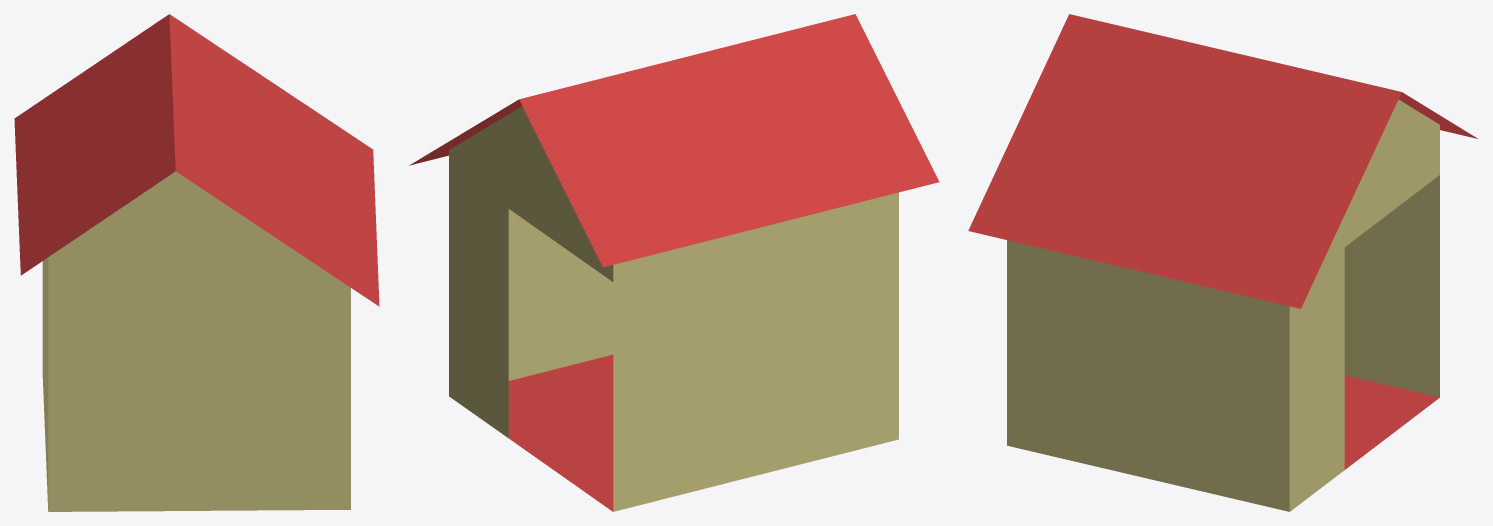
3 renders of one model, left to right at view 1: azimuth 30°, elevation 25°; view 2: azimuth 150°, elevation 25°; view 3: azimuth 270°, elevation 25°, orthographic. The views are drawn at different scales.
Size of the model in its own units: 17.73 by 17.92 by 13.91.
